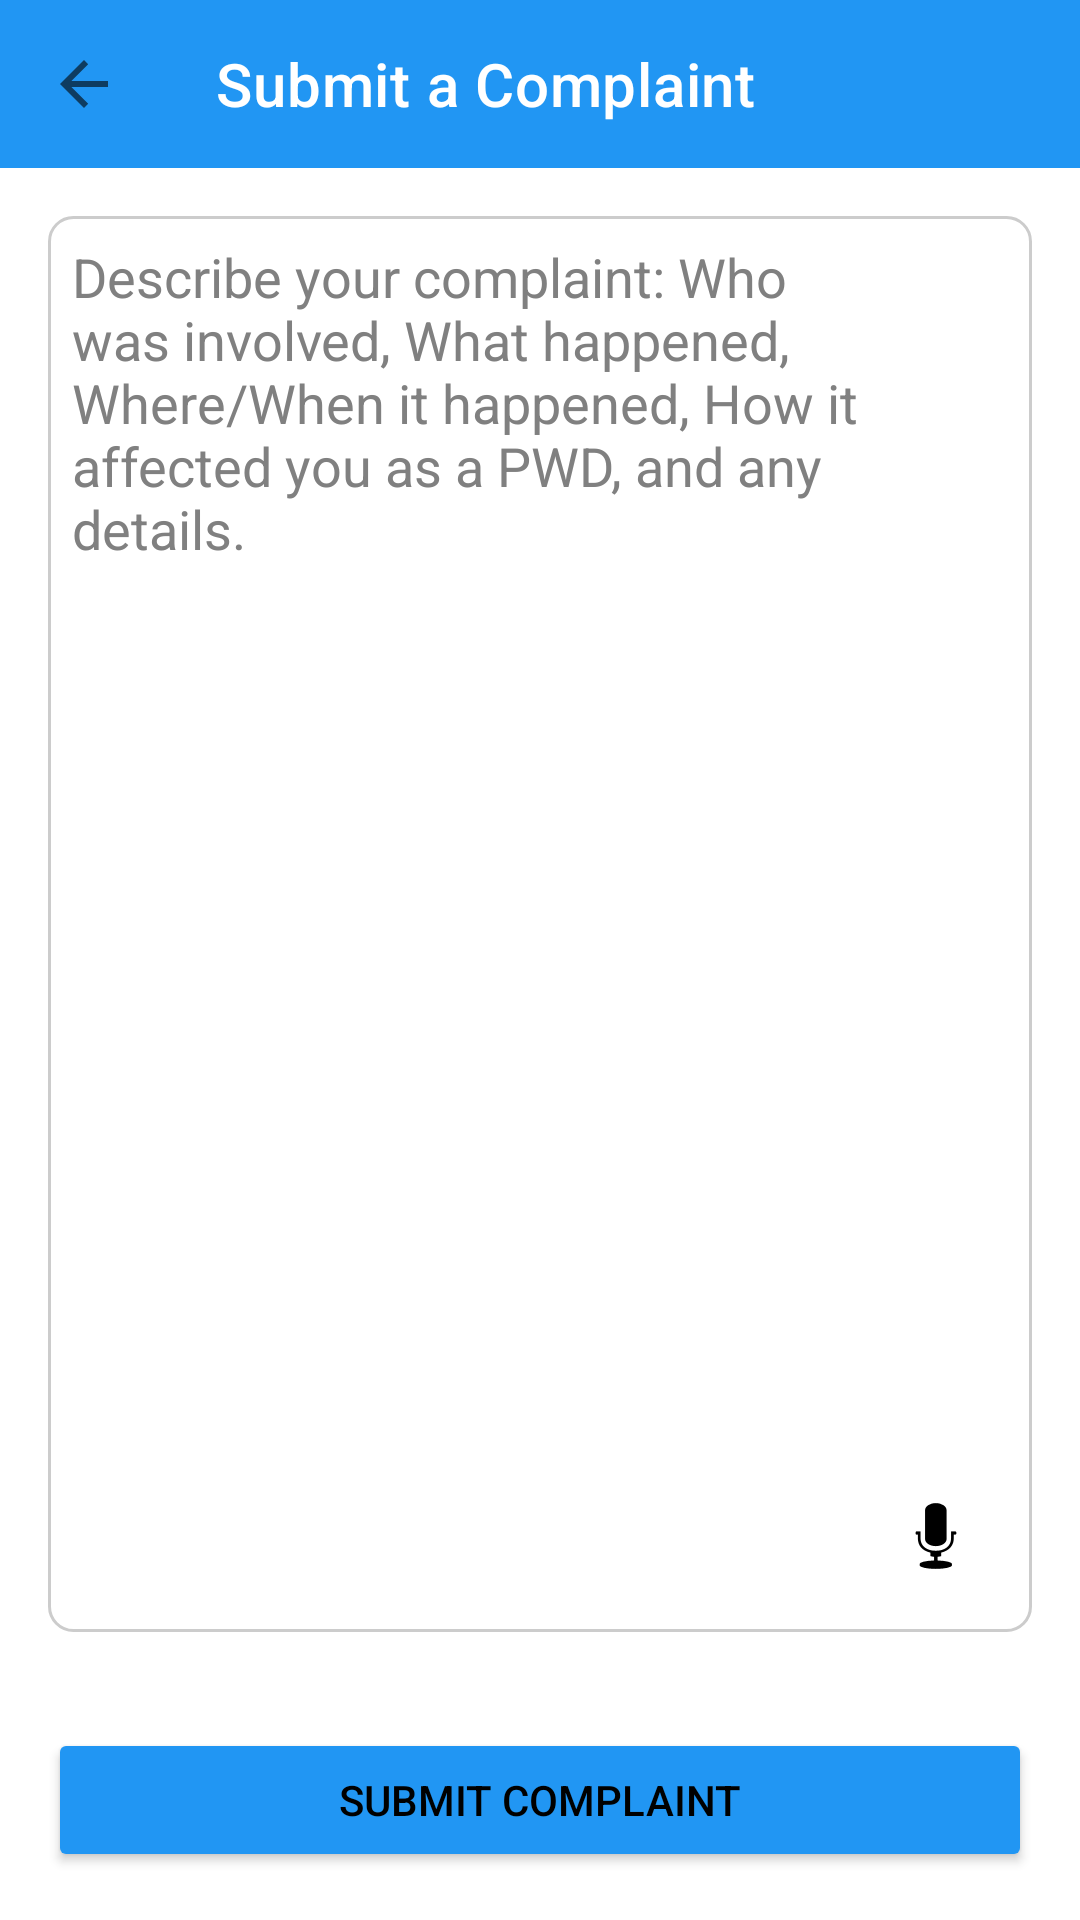

Where icons sit on this 1080 × 1920 app screen, as (x1, y1, x2, y2):
Voice Input: (915, 1503, 957, 1569)
